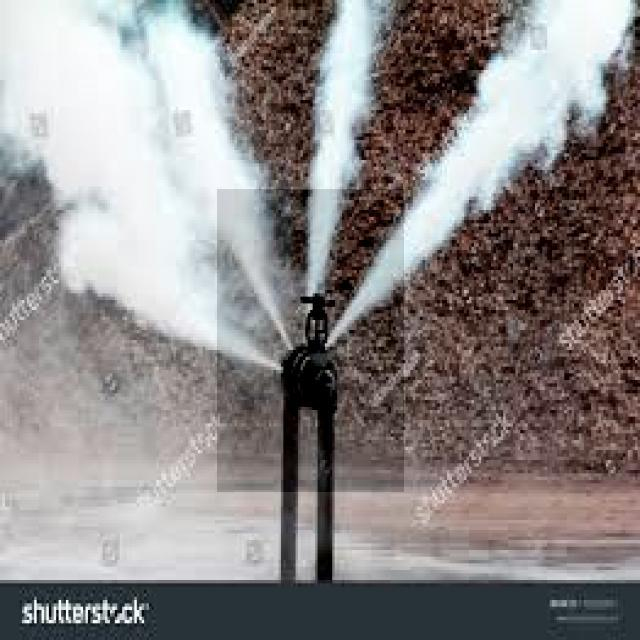corrosion: (220, 188, 395, 452)
